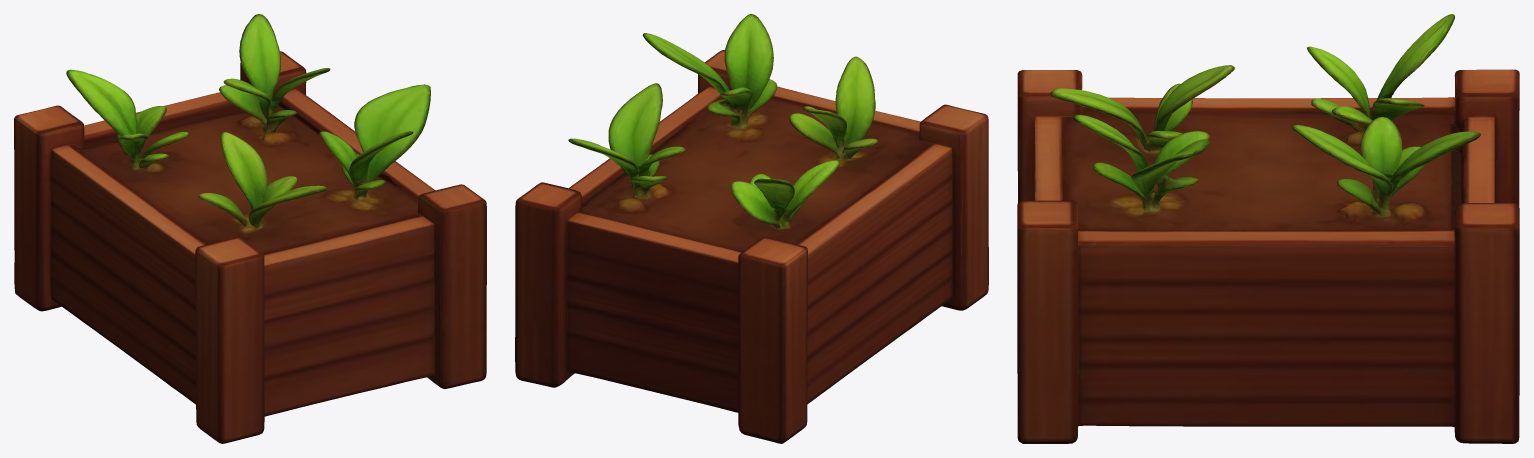
Rendered from plant_bed.glb.
3 renders of one model, left to right at view 1: azimuth 30°, elevation 25°; view 2: azimuth 150°, elevation 25°; view 3: azimuth 270°, elevation 25°, orthographic. The views are drawn at different scales.
Visible parts, largest first — view 1: world; view 2: world; view 3: world.
Part boxes in pixels (x1,y1,x2,y2): world: (14, 14, 486, 443); world: (515, 14, 988, 443); world: (1017, 14, 1519, 443).
Size of the model in its own units: 0.7697 by 0.6462 by 0.99.
1 material, 1 textured.
